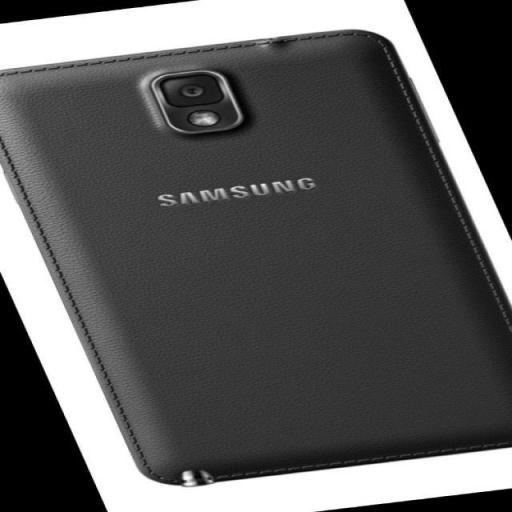phone: (0, 20, 511, 491)
